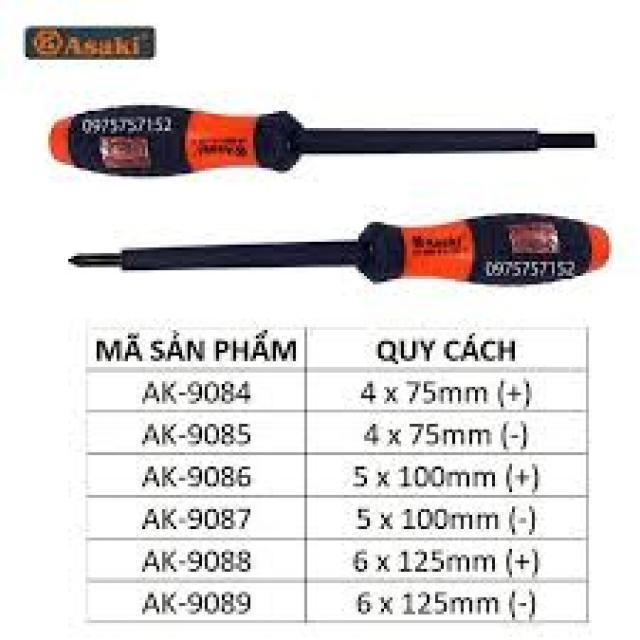screwdriver: (45, 95, 600, 181), (66, 210, 612, 288)
